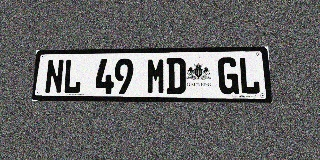4: (95, 59, 115, 94)
9: (114, 58, 133, 94)
D: (166, 58, 186, 94)
G: (218, 57, 239, 94)
L: (238, 57, 260, 94), (62, 59, 82, 94)
M: (146, 58, 166, 94)
N: (44, 59, 64, 94)
